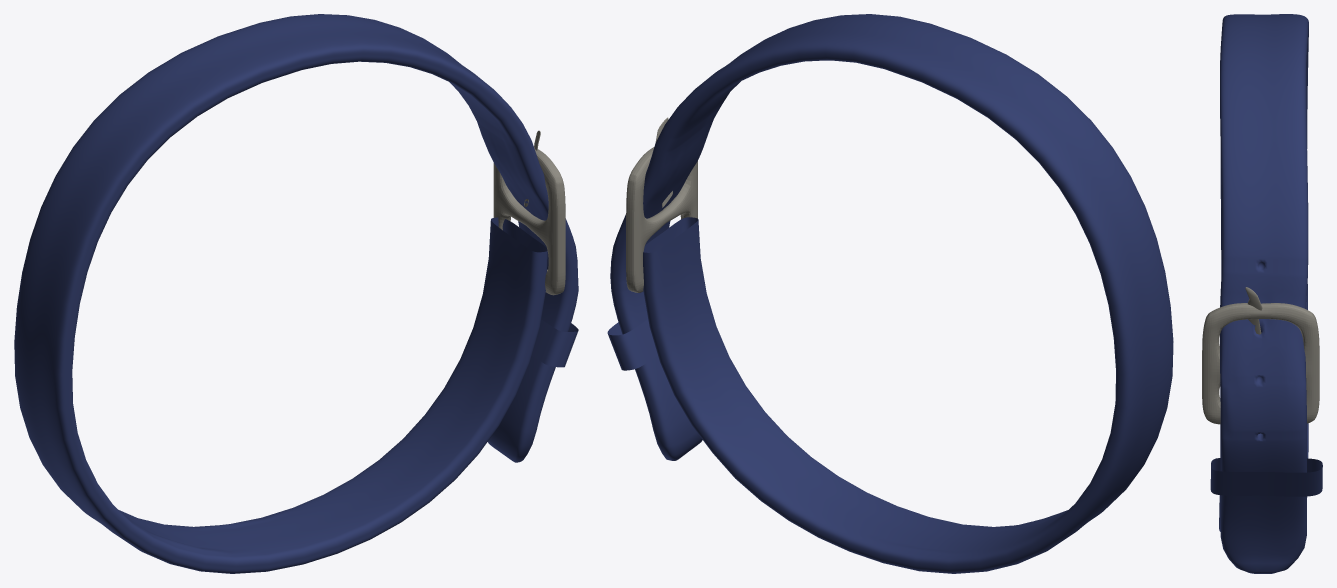
Rendered from Cinturon_Celeste.fbx.
3 views of the same model, side by side, from view 1: azimuth 30°, elevation 25°; view 2: azimuth 150°, elevation 25°; view 3: azimuth 270°, elevation 25° (orthographic). The views are drawn at different scales.
Parts seen in each view (by area): view 1: Correa, Hebilla; view 2: Correa, Hebilla; view 3: Correa, Hebilla, Circle.
Part boxes in pixels (left/top/right/bottom): Correa: left=14, top=14, right=578, bottom=573; Hebilla: left=493, top=147, right=565, bottom=295; Correa: left=607, top=14, right=1173, bottom=573; Hebilla: left=626, top=147, right=697, bottom=292; Correa: left=1210, top=14, right=1322, bottom=573; Hebilla: left=1202, top=303, right=1319, bottom=424; Circle: left=1245, top=287, right=1262, bottom=334.
Size of the model in its own units: 218 by 204 by 47.64.
